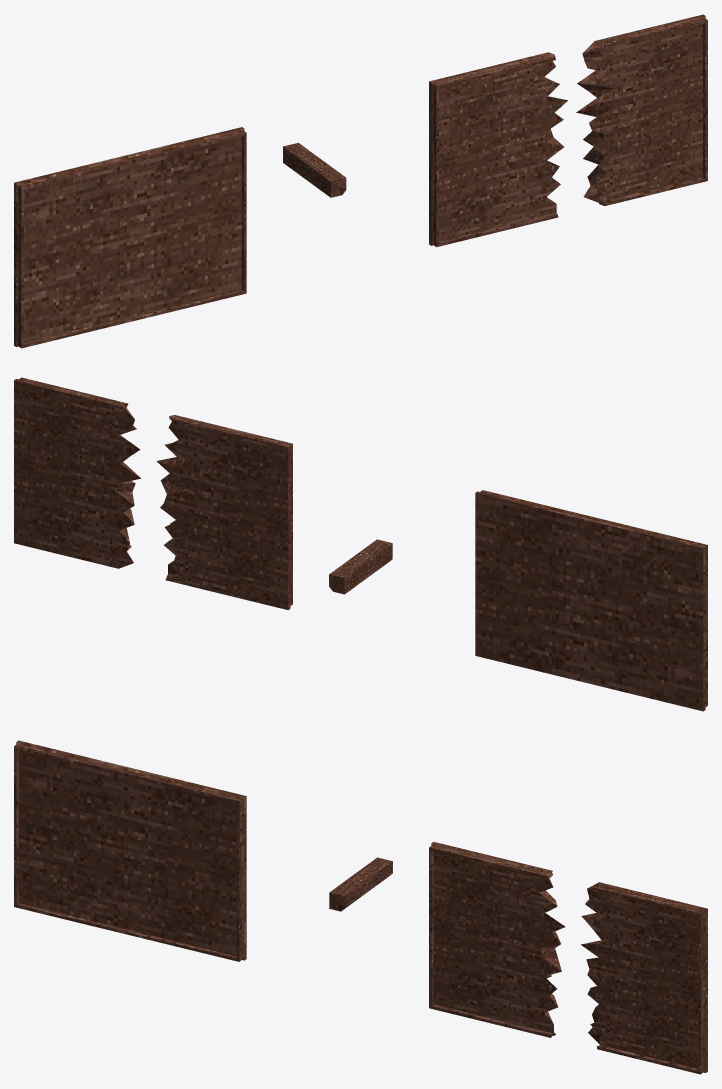
File: Table.fbx
3 renders of one model, top to bottom at view 1: azimuth 30°, elevation 25°; view 2: azimuth 150°, elevation 25°; view 3: azimuth 330°, elevation 25°, orthographic.
Visible parts, largest first — view 1: TableTop, TableTopBrokenRight, TableTopBrokenLeft, TableLeg; view 2: TableTop, TableTopBrokenRight, TableTopBrokenLeft, TableLeg; view 3: TableTop, TableTopBrokenRight, TableTopBrokenLeft, TableLeg.
Boxes of the visible parts, x1=… form: TableTop: x1=14, y1=127, x2=246, y2=348; TableTopBrokenRight: x1=429, y1=52, x2=567, y2=247; TableTopBrokenLeft: x1=576, y1=14, x2=707, y2=205; TableLeg: x1=283, y1=142, x2=346, y2=197; TableTop: x1=475, y1=490, x2=707, y2=711; TableTopBrokenRight: x1=156, y1=415, x2=292, y2=610; TableTopBrokenLeft: x1=14, y1=377, x2=140, y2=568; TableLeg: x1=329, y1=539, x2=392, y2=594; TableTop: x1=14, y1=740, x2=246, y2=961; TableTopBrokenRight: x1=429, y1=841, x2=565, y2=1037; TableTopBrokenLeft: x1=581, y1=882, x2=707, y2=1074; TableLeg: x1=329, y1=857, x2=392, y2=911.
Bounding box in the file's own units: 1329 × 300 × 170.
